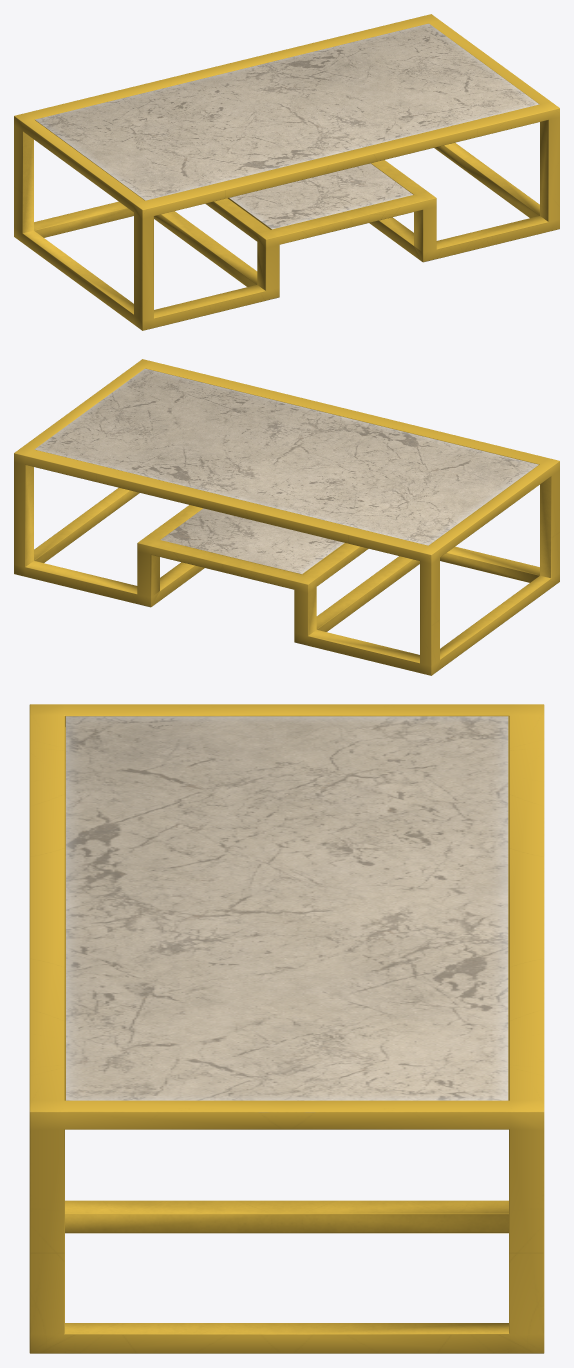
The model's file is square_coffee_table.fbx.
The picture shows the model from 3 angles, top to bottom: view 1: azimuth 30°, elevation 25°; view 2: azimuth 150°, elevation 25°; view 3: azimuth 270°, elevation 25°; orthographic projection. The views are drawn at different scales.
Visible parts, largest first — view 1: Plane.003; view 2: Plane.003; view 3: Plane.003.
Part boxes in pixels (x1=…): Plane.003: x1=14, y1=14, x2=559, y2=330; Plane.003: x1=14, y1=359, x2=559, y2=675; Plane.003: x1=29, y1=704, x2=544, y2=1353.
Bounding box in the file's own units: 132 × 36.47 × 70.21.
